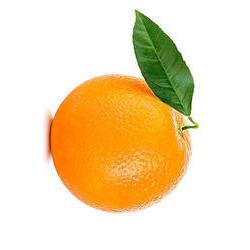orange: (0, 0, 250, 250)
